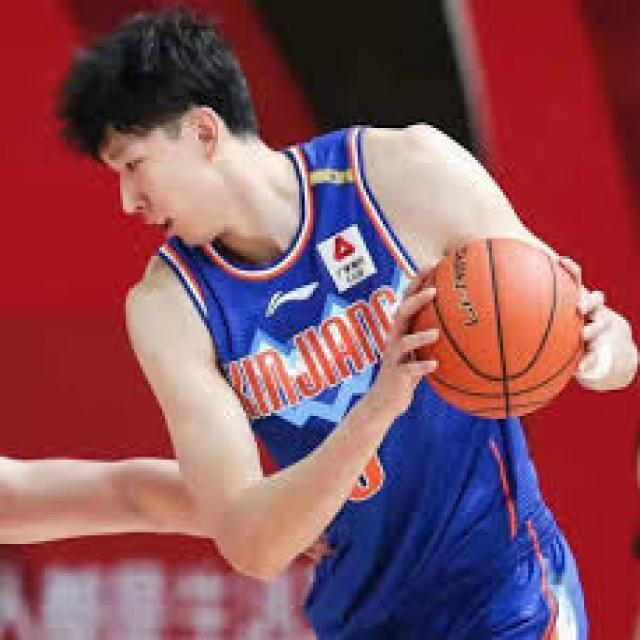rim: (402, 238, 576, 414)
